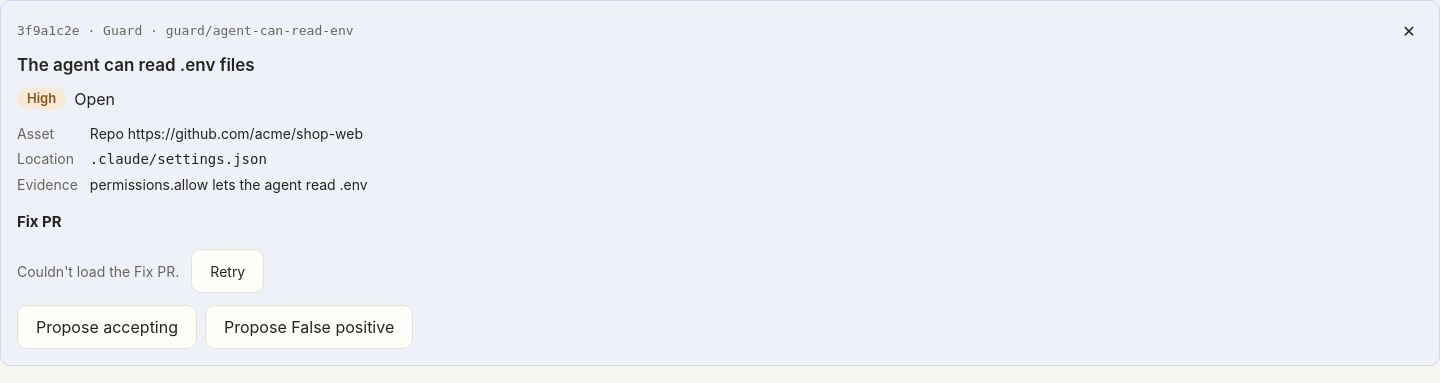
Test case: the Fix PR section's reads › a 500 shows Couldn't load the Fix PR. with Retry, busy while it runs; Retry asks again
Later steps or results of the test are not shown.
Click the button with aria-label "Retry the Fix PR" at (228,271), box [191, 249, 264, 293]
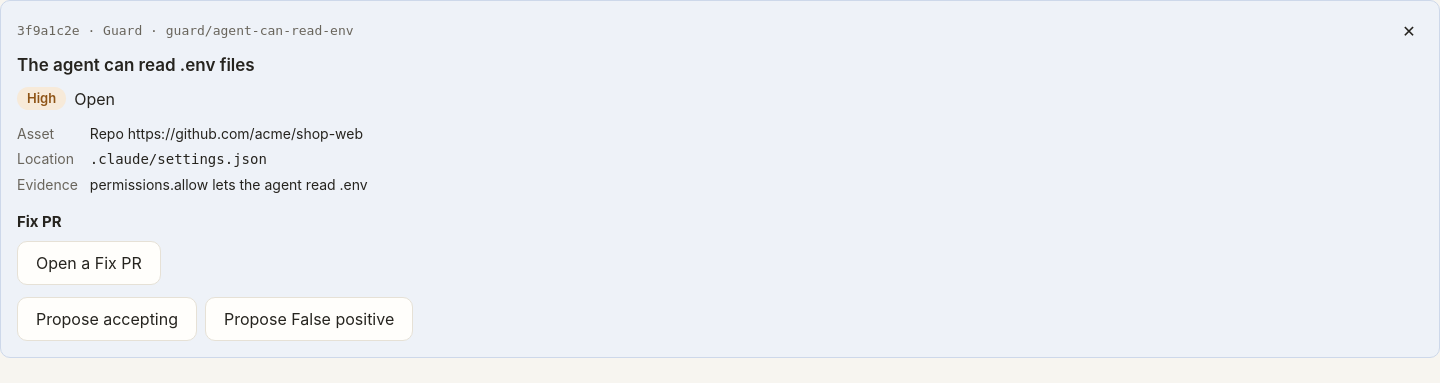
Result: the button "Open a Fix PR" is shown at [17, 241, 161, 285]
Result: the text "Couldn't load the Fix PR." is gone
